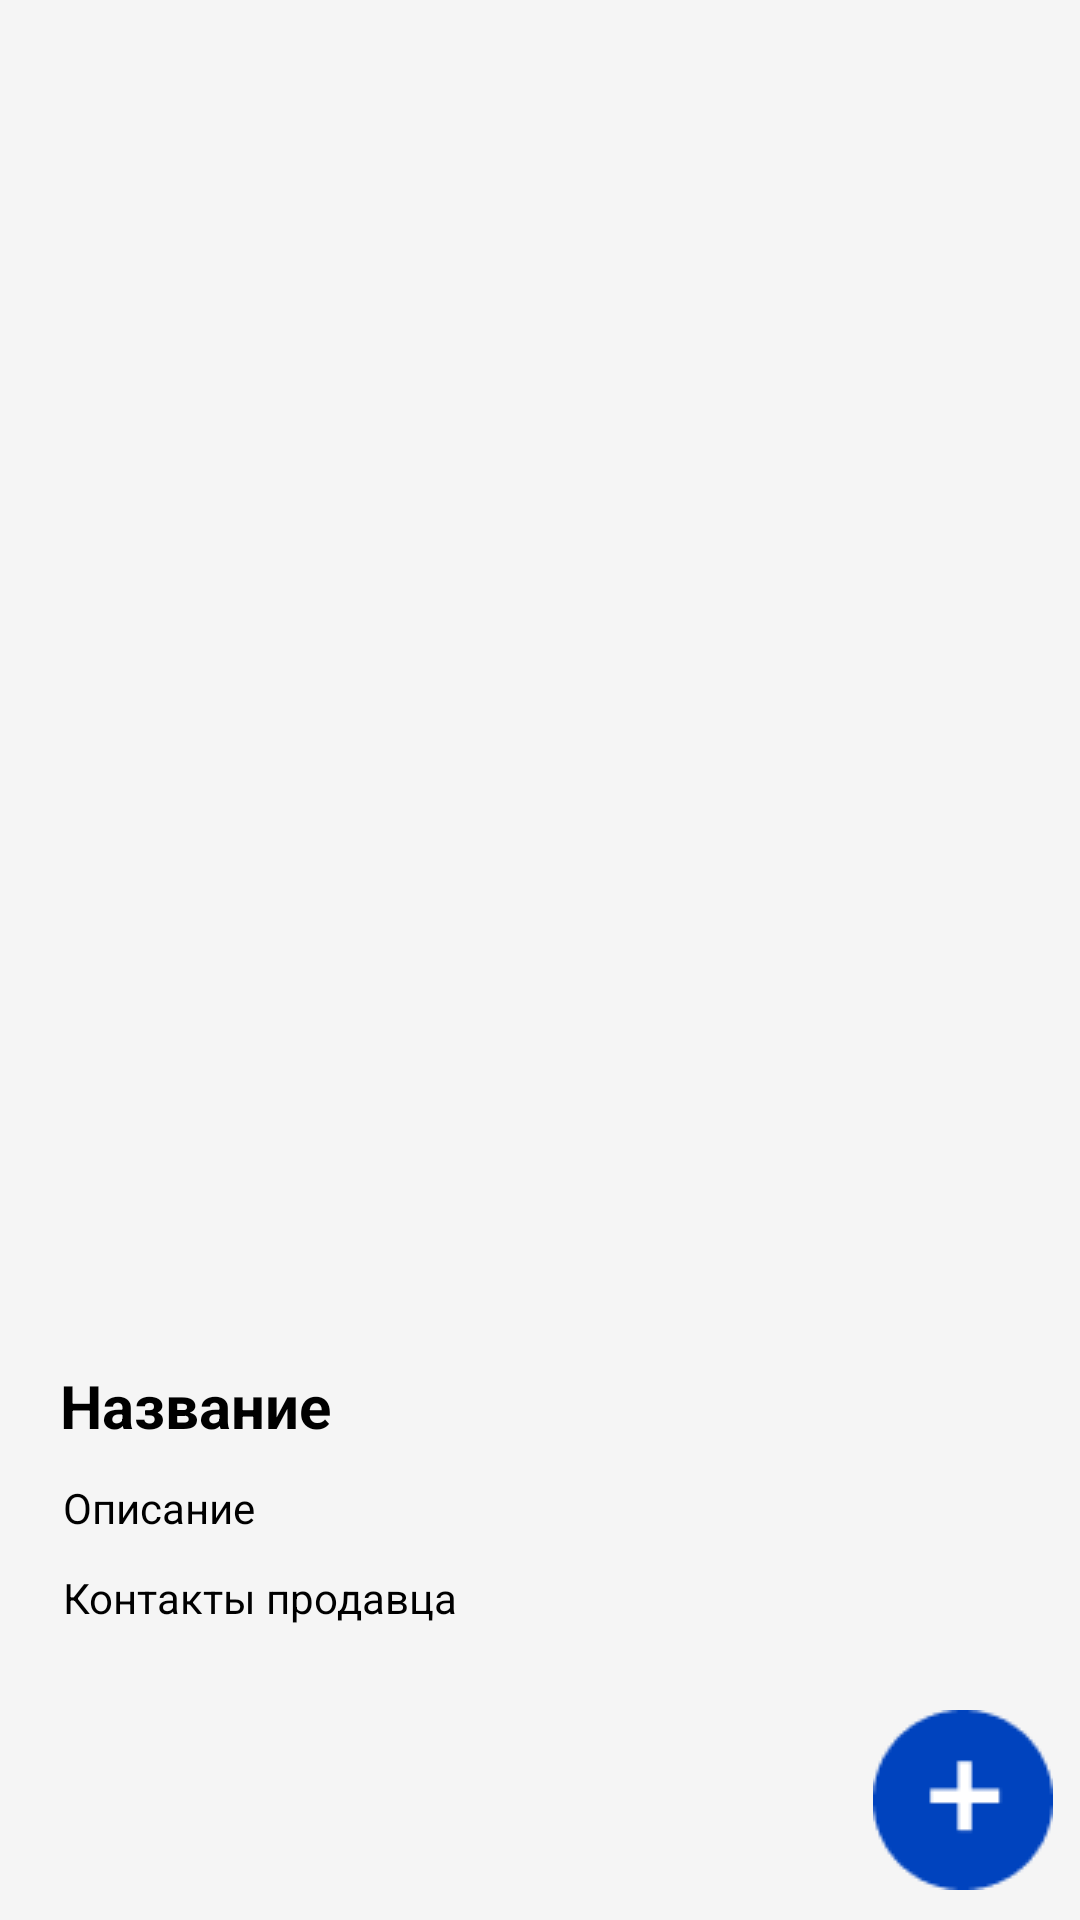

Icon bounding boxes for this 1080 × 1920 phone screenshot, format bbox(x1, y1, x2, y2):
add post: bbox(873, 1710, 1053, 1890)
